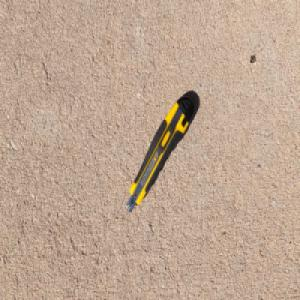Cutter: (124, 93, 194, 212)
